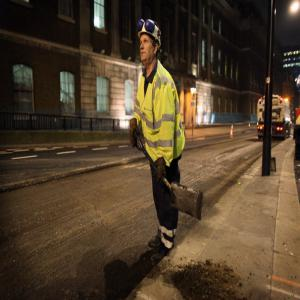white: (140, 21, 162, 67)
